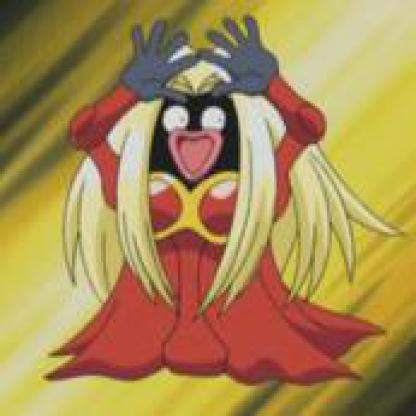Jynx: (1, 1, 400, 392)
